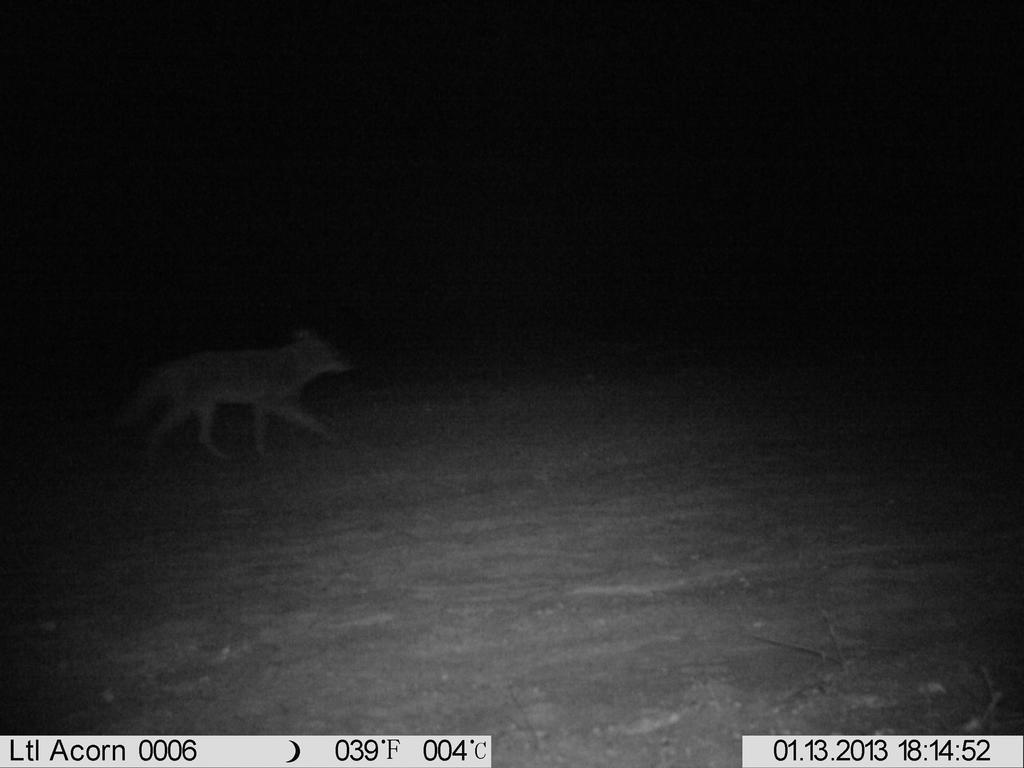coyote: (107, 321, 355, 463)
